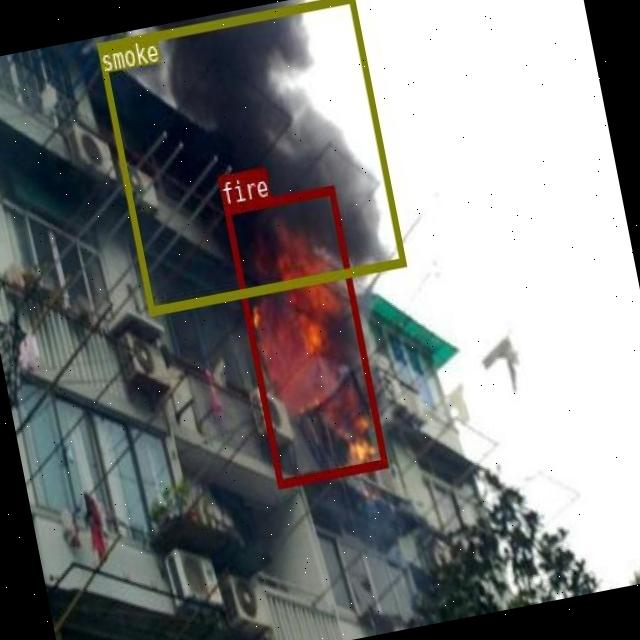fire: (222, 184, 387, 486)
smoke: (97, 0, 405, 313)
